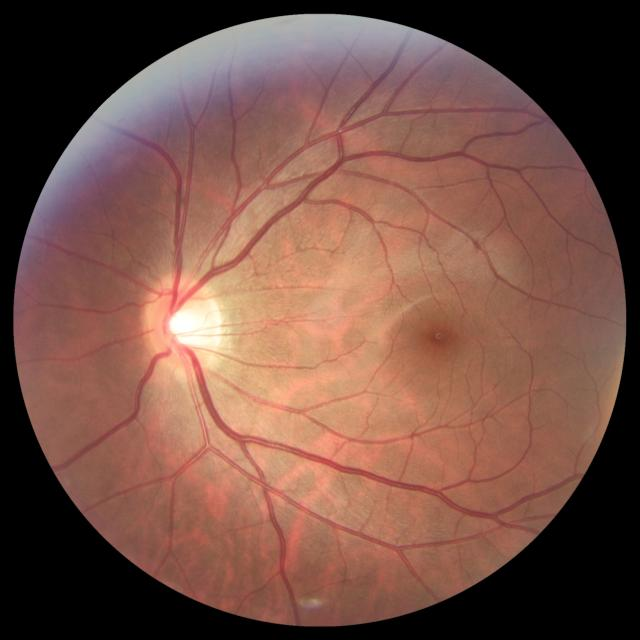OC: (167, 302, 209, 350)
OD: (143, 275, 223, 373)
